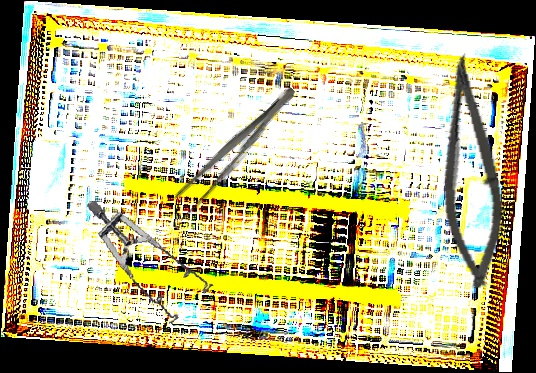Dressing Forceps: (165, 79, 303, 225)
Micro Scissor: (423, 50, 515, 292)
Speculum: (85, 179, 221, 336)
